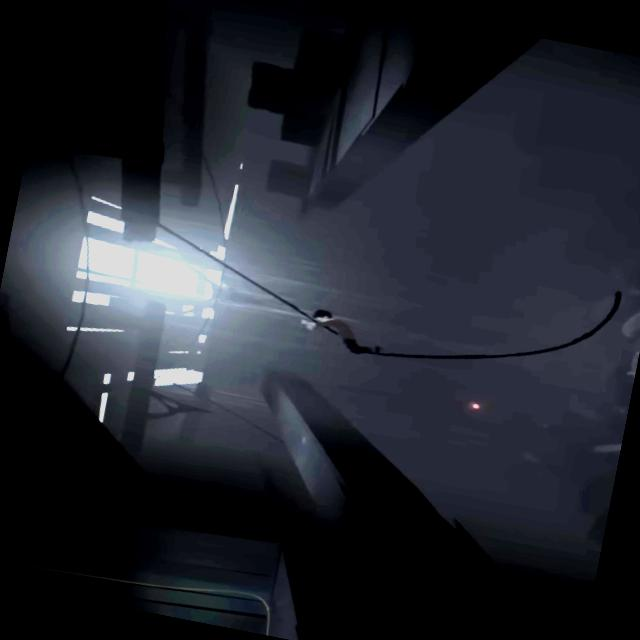boy: (298, 306, 384, 357)
